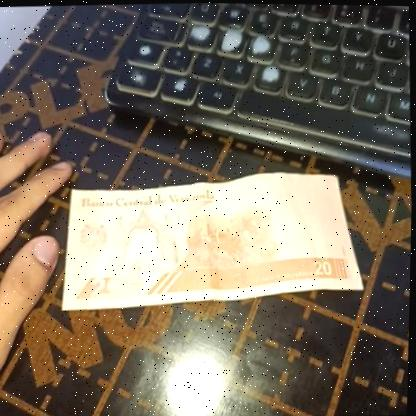twenty-back-vef: (58, 164, 368, 314)
